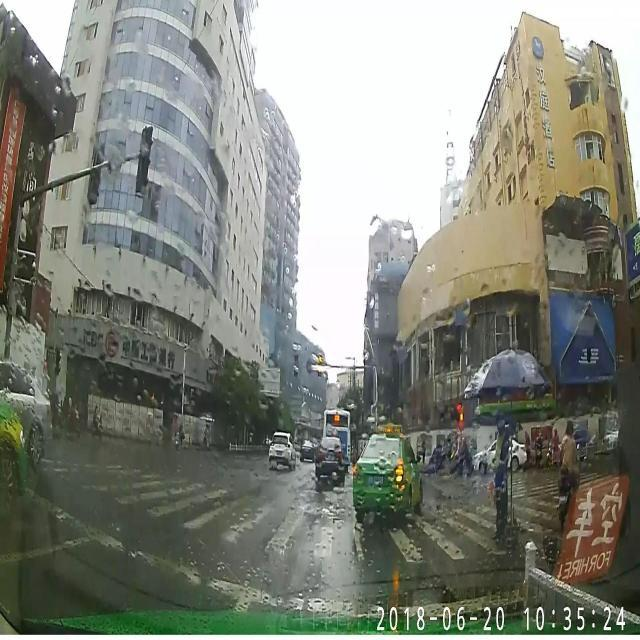car: (352, 424, 423, 512), (315, 438, 345, 480), (268, 430, 295, 468), (300, 439, 316, 462)
